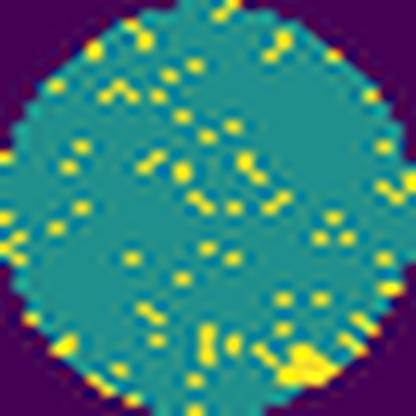Loc: (258, 343, 334, 383)
